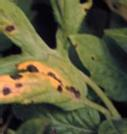Tomato leaf bacterial spot: (0, 0, 90, 112)
